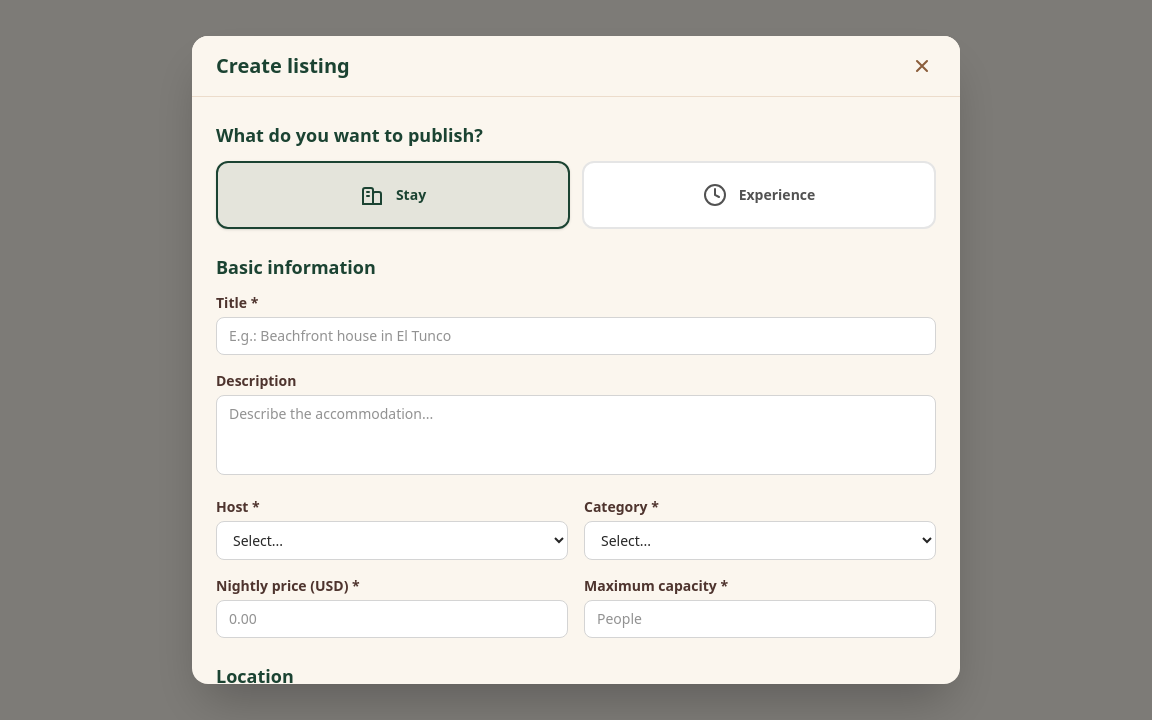
Scenario: EN active: modal chrome comes from the experiencia + common namespaces › switches to the experience branch with calendar chrome through common keys
expect the heading "Create listing" is shown: met, box x1=216 y1=52 x2=350 y2=80
Click the radio button labelled "Experience".
click(759, 195)  # box x1=582 y1=161 x2=936 y2=229
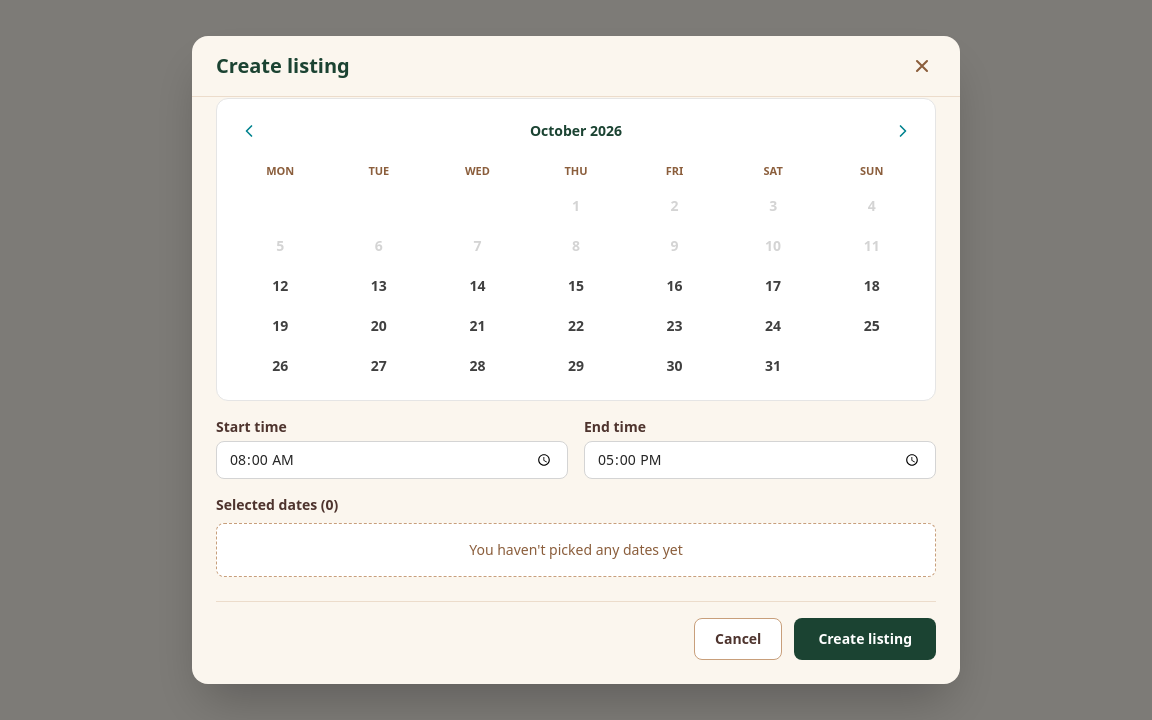
expect the button named "Previous month" is shown: met, box x1=233 y1=115 x2=265 y2=147
expect the button named "Next month" is shown: met, box x1=887 y1=115 x2=919 y2=147
expect the text "Selected dates (0)" is shown: met, box x1=216 y1=495 x2=338 y2=514
